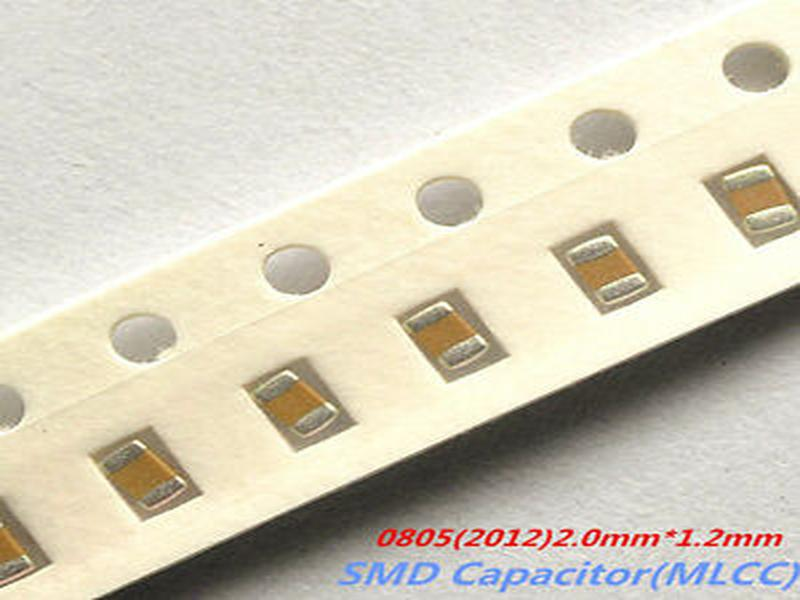SMD capacitor: (244, 369, 342, 445), (97, 436, 188, 517), (561, 229, 652, 308), (718, 156, 800, 242), (399, 300, 491, 371)
